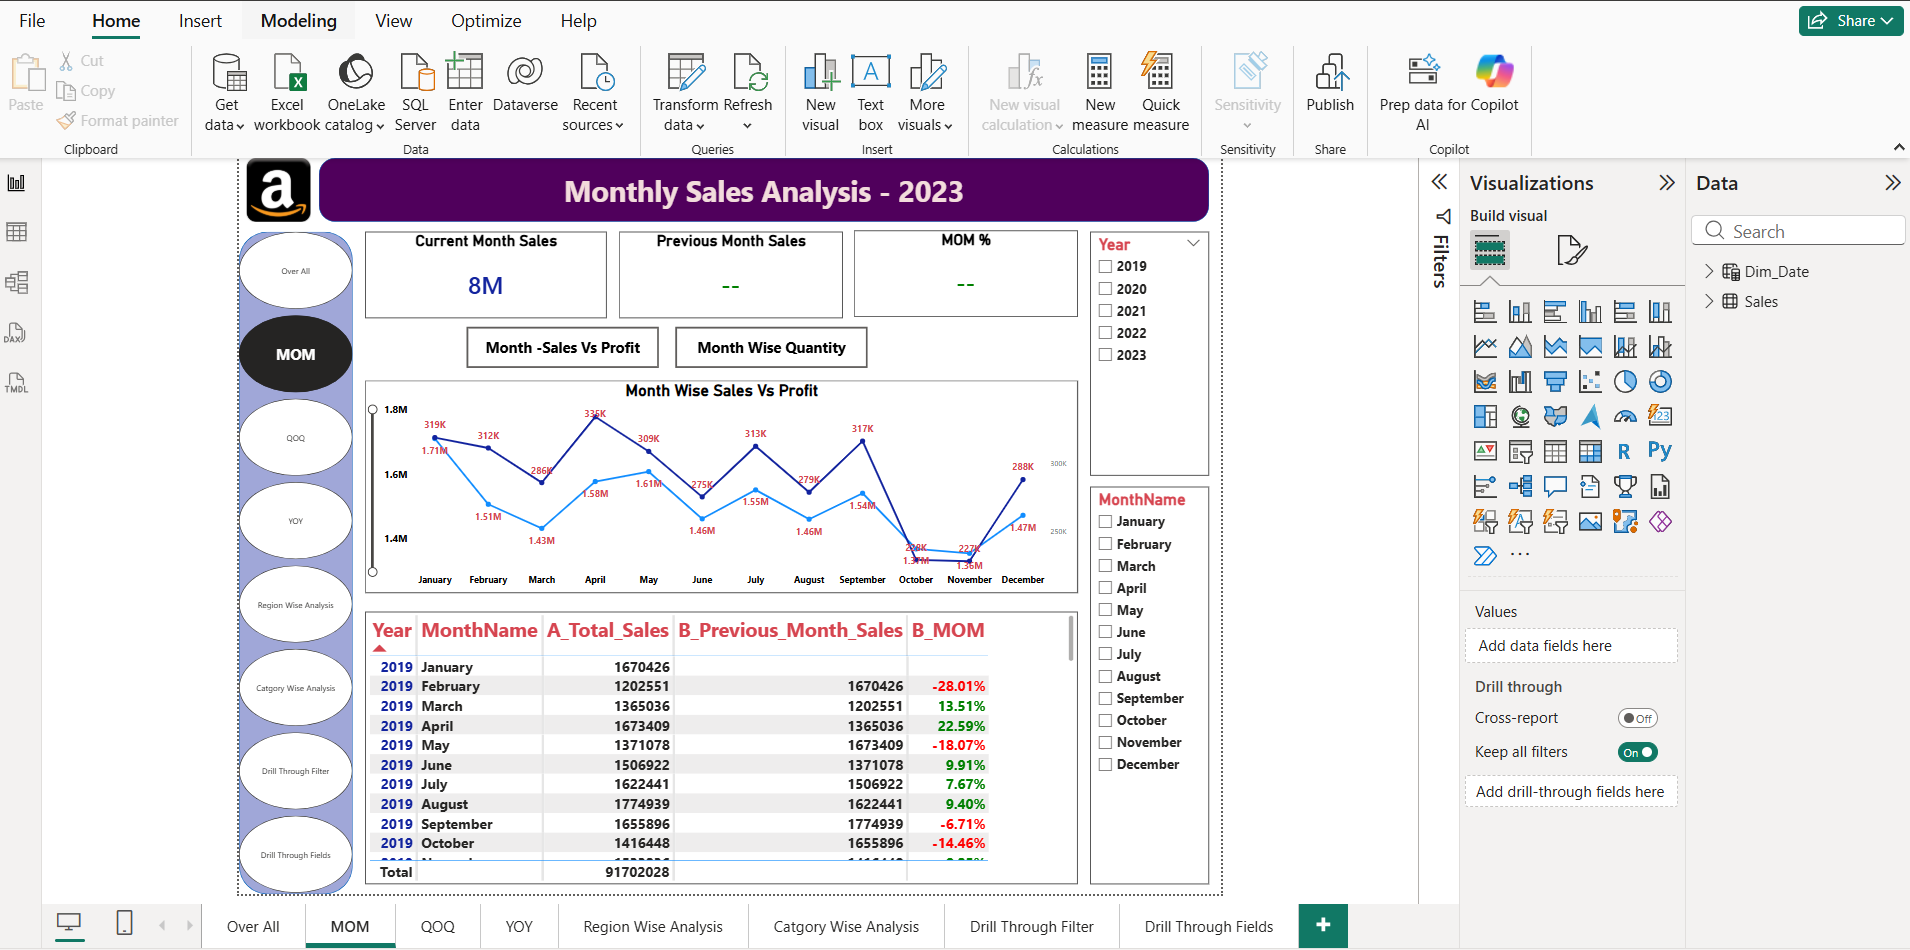

What the dashboard file says about the page in this screenshot:
{"tool":"powerbi","page":{"name":"MOM","canvas":[1600,1200],"ordinal":1},"visuals":[{"type":"image","box":[9.2,0,108.5,103.9],"z":0},{"type":"shape","box":[130.4,0,1451.1,103.9],"z":1000},{"type":"shape","box":[0,120.2,185.5,1080.2],"z":2000},{"type":"cardVisual","title":"Current Month Sales","fields":{"Data":["Sales.B_Current_Month_Sales"]},"box":[205.8,120.2,393.3,140.6],"z":3000},{"type":"cardVisual","title":"Previous Month Sales","fields":{"Data":["Sales.B_Previous_Month_Sales"]},"box":[619.6,120.2,364.8,140.6],"z":4000},{"type":"cardVisual","title":"MOM %","fields":{"Data":["Sales.B_MOM"]},"box":[1002.7,118.2,364.8,140.6],"z":5000},{"type":"lineChart","title":"Month Wise Sales Vs Profit","fields":{"Y":["Sales.A_Total_Sales"],"Y2":["Sales.A_Total_Profit"],"Category":["Dim_Date.MonthName"]},"box":[205.8,362.8,1161.7,346.5],"z":6000},{"type":"tableEx","fields":{"Values":["Dim_Date.Year","Dim_Date.MonthName","Sales.A_Total_Sales","Sales.B_Previous_Month_Sales","Sales.B_MOM"]},"box":[205.8,739.8,1161.7,444.3],"z":7000},{"type":"actionButton","box":[711.3,275.1,313.9,67.3],"z":9000},{"type":"actionButton","box":[370.9,275.1,313.9,67.3],"z":10000},{"type":"slicer","fields":{"Values":["Dim_Date.MonthName"]},"box":[1387.9,536,193.6,648.1],"z":11000},{"type":"slicer","fields":{"Values":["Dim_Date.Year"]},"box":[1387.9,120.2,193.6,397.4],"z":12000},{"type":"pageNavigator","box":[0,120.2,185.5,1080.2],"z":13000}]}

Visuals, with their boxes on the page's 1600x1200 design canvas (x1, y1, x2, y2). These are canvas units, not pixel positions in the 1910x950 screenshot, which may show the page scaled, cropped or inside an application window:
image: region(9, 0, 118, 104)
shape: region(130, 0, 1582, 104)
shape: region(0, 120, 186, 1200)
"Current Month Sales" cardVisual: region(206, 120, 599, 261)
"Previous Month Sales" cardVisual: region(620, 120, 984, 261)
"MOM %" cardVisual: region(1003, 118, 1368, 259)
"Month Wise Sales Vs Profit" lineChart: region(206, 363, 1368, 709)
tableEx - Dim_Date.Year x Dim_Date.MonthName: region(206, 740, 1368, 1184)
actionButton: region(711, 275, 1025, 342)
actionButton: region(371, 275, 685, 342)
slicer - Dim_Date.MonthName: region(1388, 536, 1582, 1184)
slicer - Dim_Date.Year: region(1388, 120, 1582, 518)
pageNavigator: region(0, 120, 186, 1200)
